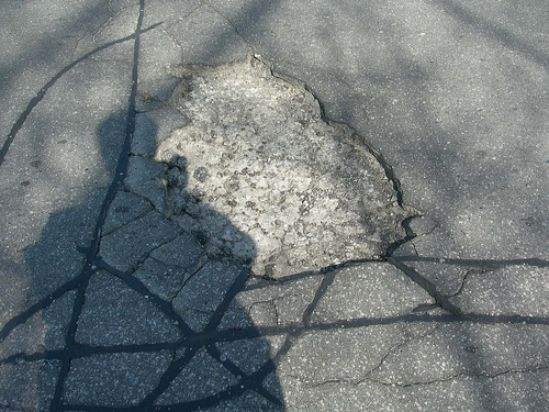pothole: (149, 52, 425, 286)
